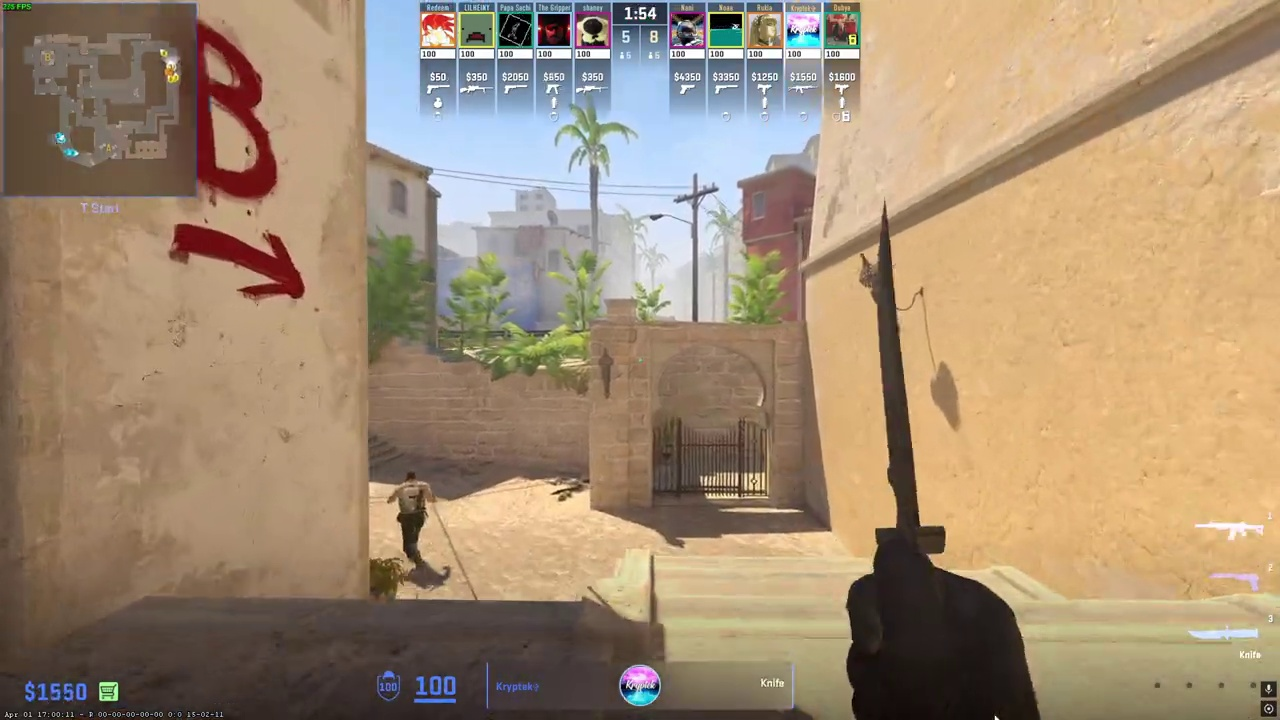Terrorist: (395, 471, 432, 568)
